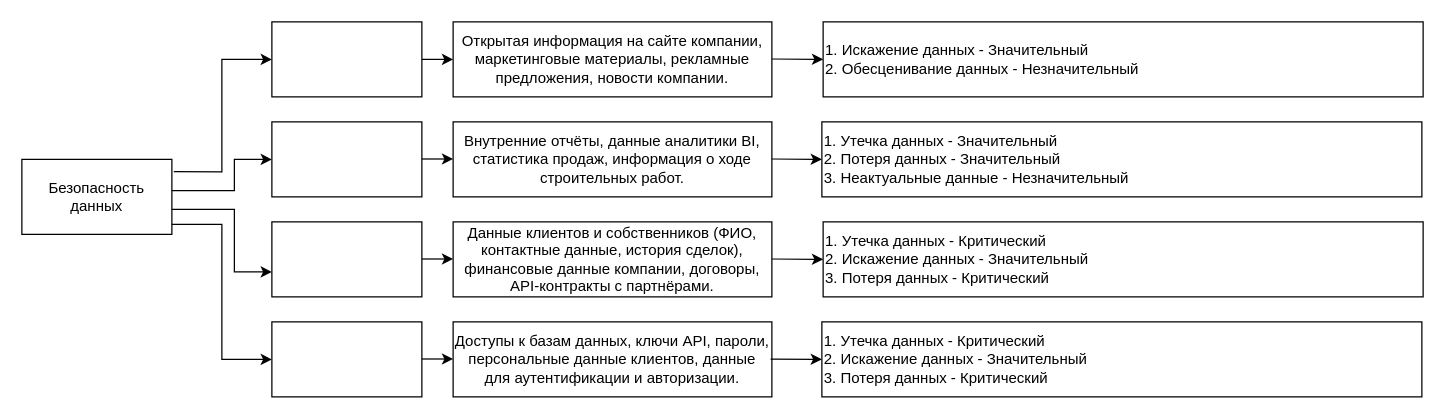
Some shapes in this 1445 by 419 pixel diagram are drawn without their labels. The shapes that lost their labels are listed below. From the top down, each one's box as (x1, y1, x2, y2) in pixels, then its label:
(271, 21, 422, 97): Публичные данные
(271, 121, 422, 197): Внутренние данные
(271, 221, 422, 297): Конфиденциальные данные
(271, 321, 422, 397): Секретные данные
